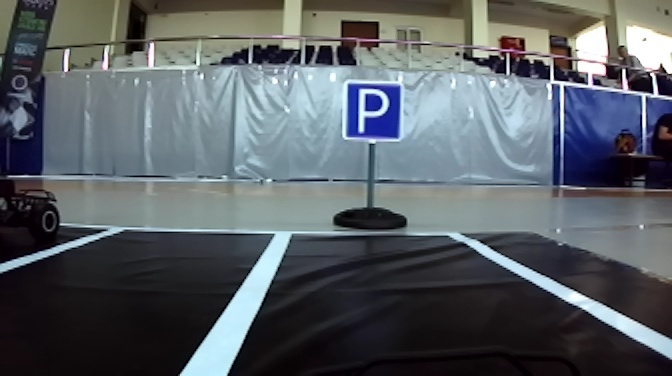park: (344, 75, 403, 142)
